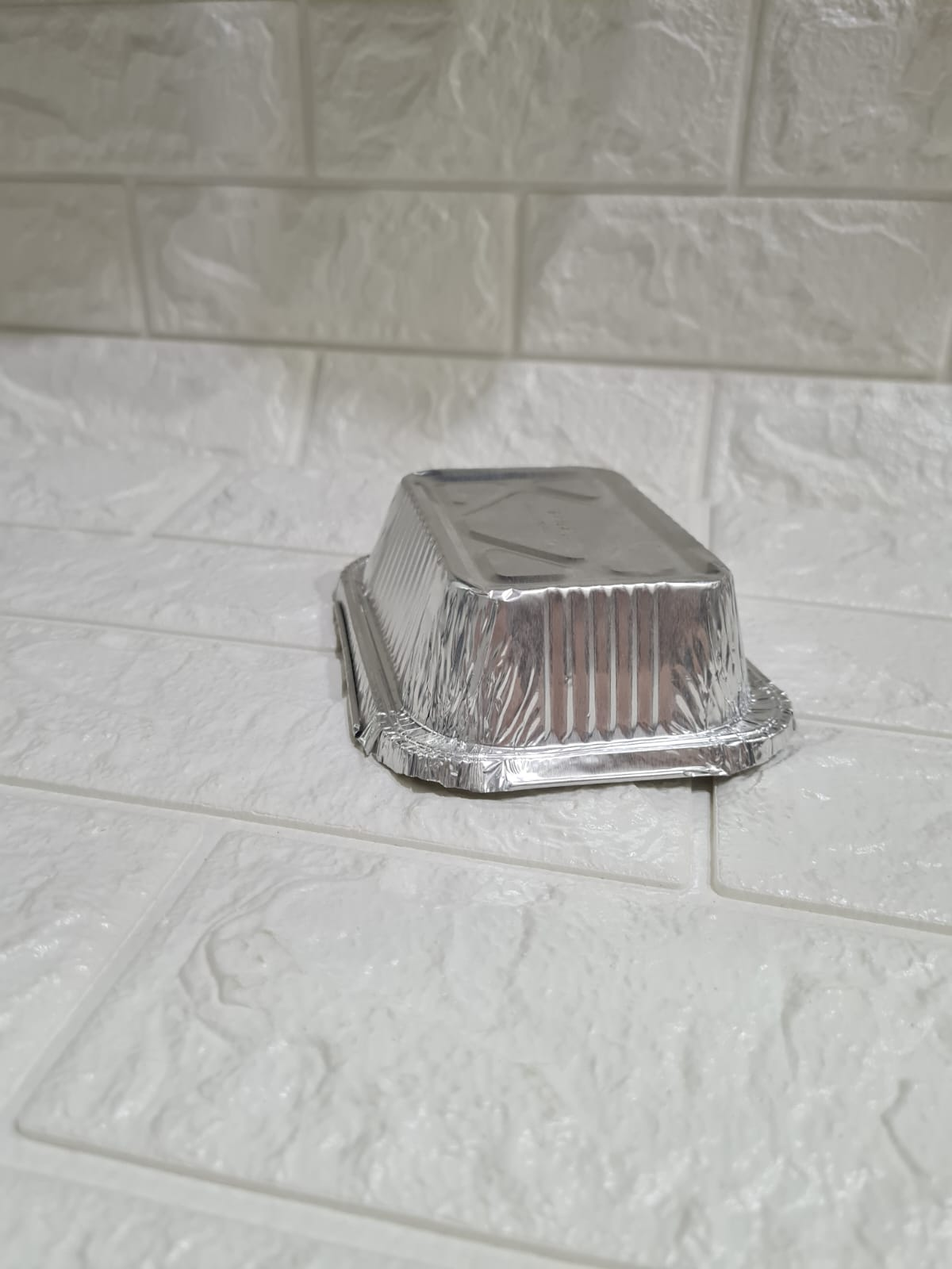Metal: (297, 463, 793, 775)
